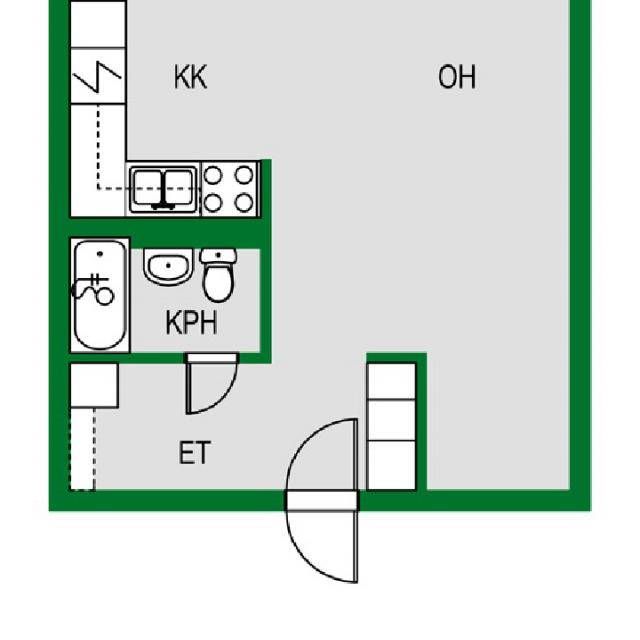door: (286, 491, 358, 583), (286, 418, 358, 510), (188, 352, 236, 413)
